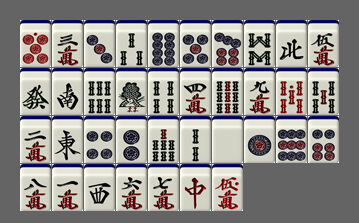0m: (212, 164, 243, 211)
0p: (20, 20, 51, 67)
0s: (276, 68, 307, 115)
1m: (52, 164, 83, 211)
1p: (244, 116, 275, 163)
1s: (116, 68, 147, 115)
1z: (52, 116, 83, 163)
2m: (20, 116, 51, 163)
2p: (116, 116, 147, 163)
2s: (180, 116, 211, 163)
2z: (52, 68, 83, 115)
3m: (52, 20, 83, 67)
3p: (84, 20, 115, 67)
3s: (116, 20, 147, 67)
3z: (84, 164, 115, 211)
4m: (180, 68, 211, 115)
4p: (84, 116, 115, 163)
4s: (148, 68, 179, 115)
4z: (276, 20, 307, 67)
5m: (308, 20, 339, 67)
5p: (180, 20, 211, 67)
5s: (308, 68, 339, 115)
5z: (212, 116, 243, 163)
6m: (116, 164, 147, 211)
6p: (308, 116, 339, 163)
6s: (84, 68, 115, 115)
6z: (20, 68, 51, 115)
7m: (148, 164, 179, 211)
7p: (212, 20, 243, 67)
7s: (148, 116, 179, 163)
7z: (180, 164, 211, 211)
8m: (20, 164, 51, 211)
8p: (148, 20, 179, 67)
8s: (244, 20, 275, 67)
9m: (244, 68, 275, 115)
9p: (276, 116, 307, 163)
9s: (212, 68, 243, 115)
